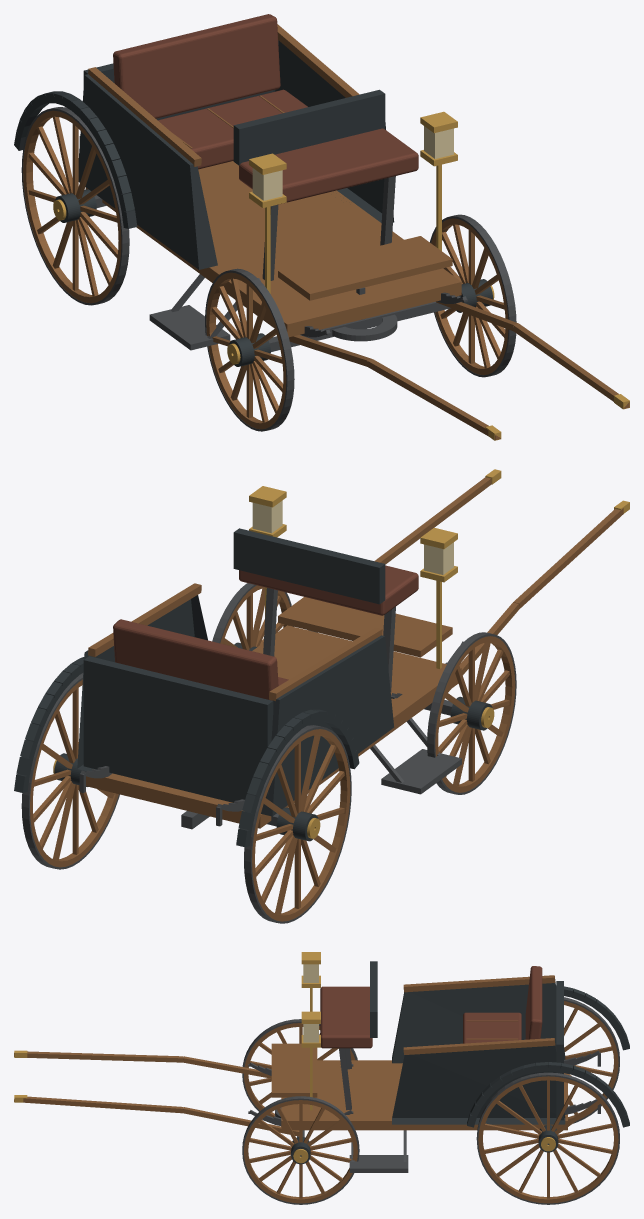
File: carriage-c01.glb
3 renders of one model, top to bottom at view 1: azimuth 30°, elevation 25°; view 2: azimuth 150°, elevation 25°; view 3: azimuth 270°, elevation 25°, orthographic. The views are drawn at different scales.
Visible parts, largest first — view 1: surface_1_1, surface_1_0, surface_1_2, surface_232_1, surface_272_1, surface_252_1, surface_292_1, surface_1_4, surface_1_3, surface_69_4, surface_272_4, surface_232_4 (+4 smaller); view 2: surface_1_0, surface_1_1, surface_1_2, surface_232_1, surface_272_1, surface_212_1, surface_1_4, surface_292_1, surface_1_3, surface_232_4, surface_272_4, surface_252_1 (+6 smaller); view 3: surface_1_0, surface_1_1, surface_1_2, surface_212_1, surface_252_1, surface_292_1, surface_1_4, surface_232_1, surface_212_4, surface_272_1, surface_1_3, surface_252_4 (+4 smaller).
Boxes of the visible parts, left/top/right/bottom form: surface_1_1: left=85, top=24, right=461, bottom=337; surface_1_0: left=14, top=40, right=394, bottom=269; surface_1_2: left=113, top=14, right=418, bottom=204; surface_232_1: left=23, top=110, right=121, bottom=303; surface_272_1: left=206, top=272, right=286, bottom=429; surface_252_1: left=431, top=218, right=508, bottom=375; surface_292_1: left=289, top=301, right=629, bottom=440; surface_1_4: left=149, top=176, right=459, bottom=350; surface_1_3: left=249, top=111, right=457, bottom=293; surface_69_4: left=268, top=287, right=458, bottom=351; surface_272_4: left=205, top=268, right=294, bottom=431; surface_232_4: left=21, top=107, right=129, bottom=305; surface_1_0: left=14, top=528, right=394, bottom=847; surface_1_1: left=86, top=583, right=461, bottom=828; surface_1_2: left=113, top=565, right=418, bottom=700; surface_232_1: left=252, top=729, right=350, bottom=921; surface_272_1: left=435, top=636, right=515, bottom=792; surface_212_1: left=30, top=679, right=118, bottom=867; surface_1_4: left=263, top=588, right=461, bottom=794; surface_292_1: left=307, top=477, right=623, bottom=692; surface_1_3: left=249, top=486, right=457, bottom=668; surface_232_4: left=244, top=725, right=351, bottom=923; surface_272_4: left=427, top=632, right=516, bottom=794; surface_252_1: left=220, top=585, right=292, bottom=650; surface_1_0: left=370, top=961, right=629, bottom=1127; surface_1_1: left=271, top=975, right=567, bottom=1130; surface_1_2: left=320, top=966, right=542, bottom=1048; surface_212_1: left=478, top=1076, right=618, bottom=1203; surface_252_1: left=244, top=1100, right=357, bottom=1203; surface_292_1: left=14, top=1051, right=299, bottom=1136; surface_1_4: left=339, top=1048, right=408, bottom=1172; surface_232_1: left=564, top=1001, right=618, bottom=1121; surface_212_4: left=476, top=1072, right=619, bottom=1204; surface_272_1: left=244, top=1023, right=355, bottom=1117; surface_1_3: left=301, top=952, right=320, bottom=1110; surface_252_4: left=242, top=1096, right=359, bottom=1204.
Bounding box in the file's own units: 1.71 × 1.52 × 4.73.
